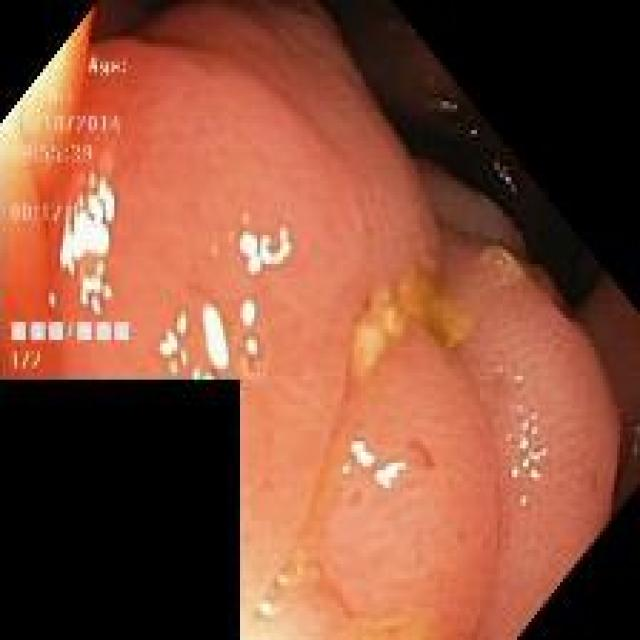Polyps: (1, 3, 621, 640)
